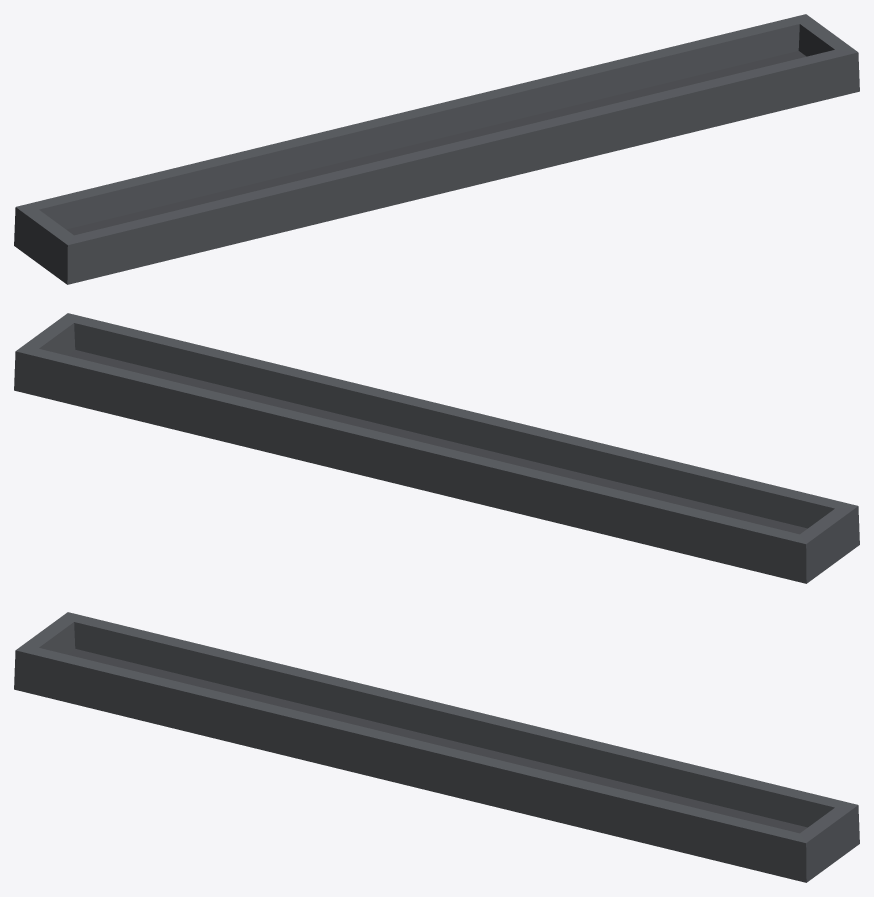
Rendered from SM_Obstacle_02_A_Base.fbx.
3 views of the same model, one above another, from view 1: azimuth 30°, elevation 25°; view 2: azimuth 150°, elevation 25°; view 3: azimuth 330°, elevation 25° (orthographic).
Visible parts, largest first — view 1: pCube567; view 2: pCube567; view 3: pCube567.
Boxes of the visible parts, left/top/right/bottom form: pCube567: left=14, top=14, right=859, bottom=284; pCube567: left=14, top=313, right=859, bottom=583; pCube567: left=14, top=612, right=859, bottom=882.
Bounding box in the file's own units: 202 × 9.51 × 23.61.
1 material, 1 textured.
